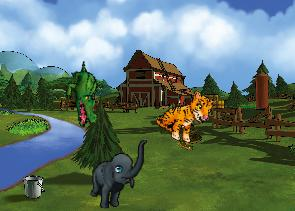crocodile: (54, 60, 113, 129)
elephant: (90, 139, 147, 209)
tiger: (152, 80, 217, 149)
